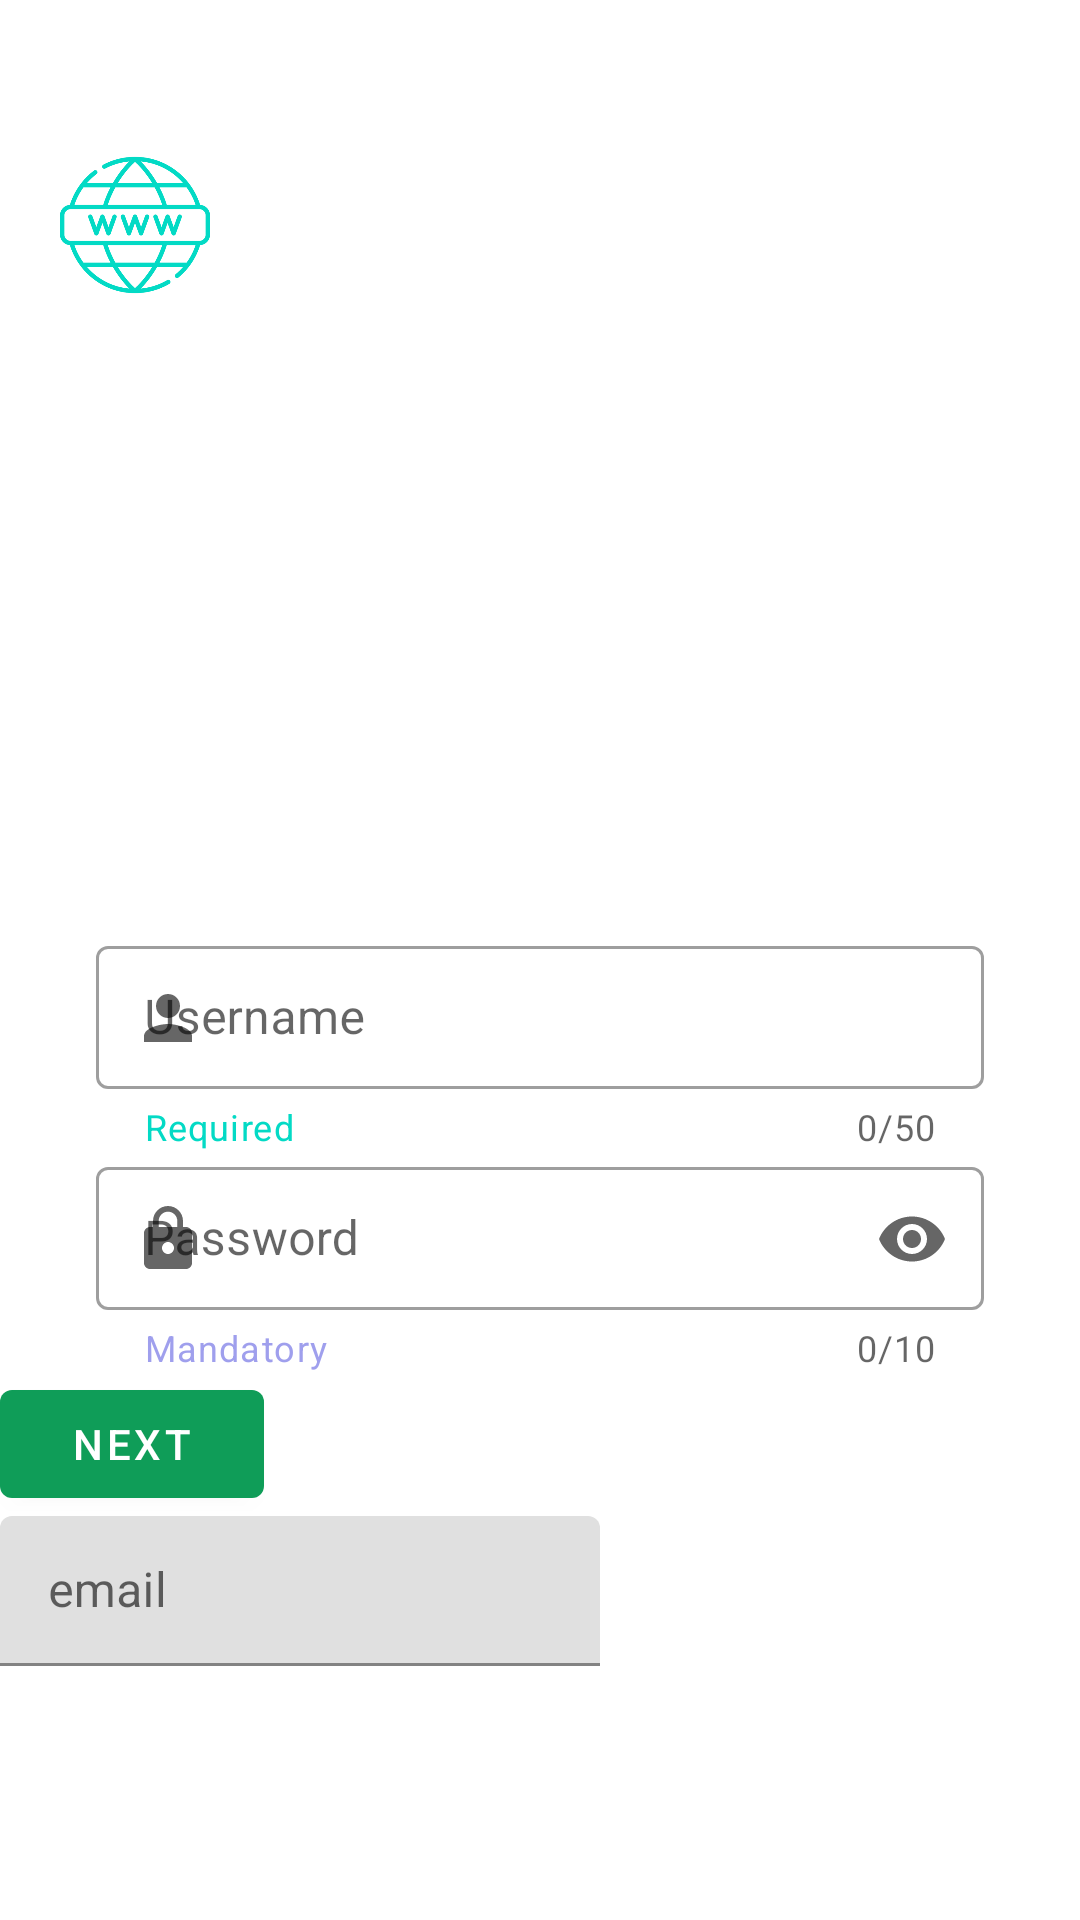

Point at icon controls on the screen. Image size 1080 × 1920, points as [x,y].
web: [135,225]
